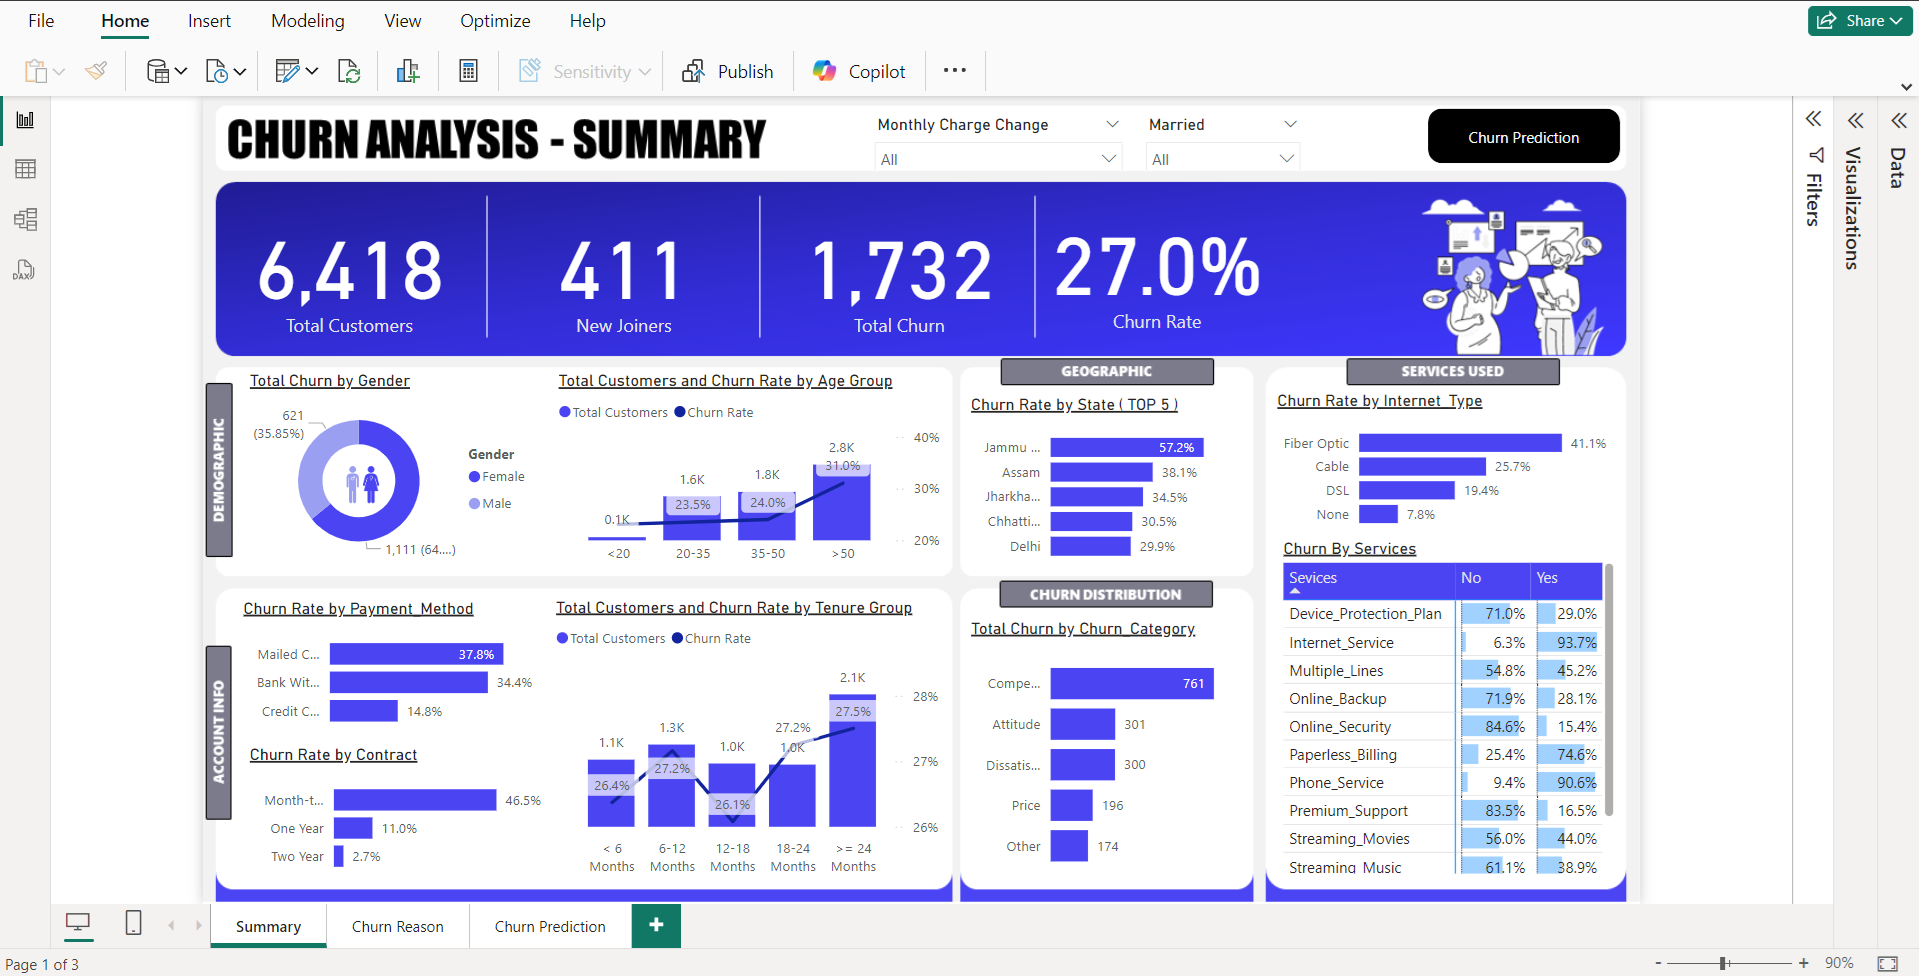

What the dashboard file says about the page in this screenshot:
{"tool":"powerbi","page":{"name":"Summary","canvas":[1280,720],"ordinal":0},"visuals":[{"type":"image","box":[111.9,319,60,51.9],"z":0},{"type":"card","fields":{"Values":["tbl_Measures.Total Customers"]},"box":[10,79,241,153],"z":1000},{"type":"card","fields":{"Values":["tbl_Measures.New Joiners"]},"box":[251,79,249,153],"z":2000},{"type":"card","fields":{"Values":["tbl_Measures.Total Churn"]},"box":[500,79,241,153],"z":3000},{"type":"card","fields":{"Values":["tbl_Measures.Churn Rate"]},"box":[741,79,217,146],"z":4000},{"type":"donutChart","fields":{"Category":["prod_Churn.Gender"],"Y":["tbl_Measures.Total Churn"]},"box":[37.3,245.5,265.5,179.1],"z":5000},{"type":"lineStackedColumnComboChart","fields":{"Category":["mapping_AgeGrp.Age Group"],"Y":["tbl_Measures.Total Customers"],"Y2":["tbl_Measures.Churn Rate"]},"box":[312,245,349.8,181],"z":6000},{"type":"clusteredBarChart","fields":{"Category":["prod_Churn.Payment_Method"],"Y":["tbl_Measures.Churn Rate"]},"box":[31,447,276,126],"z":7000},{"type":"clusteredBarChart","fields":{"Category":["prod_Churn.Contract"],"Y":["tbl_Measures.Churn Rate"]},"box":[37,578,270,125],"z":8000},{"type":"lineStackedColumnComboChart","fields":{"Category":["mapping_TenureGrp.Tenure Group"],"Y":["tbl_Measures.Total Customers"],"Y2":["tbl_Measures.Churn Rate"]},"box":[310,446,351,255.6],"z":9000},{"type":"clusteredBarChart","title":"Churn Rate by State ( TOP 5 )","fields":{"Category":["prod_Churn.State"],"Y":["tbl_Measures.Churn Rate"]},"box":[679,266,250.8,158],"z":10000},{"type":"clusteredBarChart","fields":{"Category":["prod_Churn.Churn_Category"],"Y":["tbl_Measures.Total Churn"]},"box":[679,465,251,237],"z":11000},{"type":"clusteredBarChart","fields":{"Category":["prod_Churn.Internet_Type"],"Y":["tbl_Measures.Churn Rate"]},"box":[952,263,309.8,132],"z":12000},{"type":"pivotTable","title":"Churn By Services","fields":{"Rows":["prod_Services.Sevices"],"Columns":["prod_Services.Status"],"Values":["Sum(prod_Services.Churn Status)"]},"box":[957.8,394.4,304.4,303.3],"z":13000},{"type":"slicer","fields":{"Values":["prod_Services.Monthly Charge Status"]},"box":[587.9,12.1,241.4,53.6],"z":14000},{"type":"slicer","fields":{"Values":["prod_Services.Married"]},"box":[829.2,12.5,158.3,53.3],"z":15000},{"type":"shape","box":[1090.7,11.6,170.9,48.8],"z":15001}]}

Visuals, with their boxes on the page's 1280x720 design canvas (x1, y1, x2, y2). These are canvas units, not pixel positions in the 1919x976 screenshot, which may show the page scaled, cropped or inside an application window:
image: bbox=[112, 319, 172, 371]
card - tbl_Measures.Total Customers: bbox=[10, 79, 251, 232]
card - tbl_Measures.New Joiners: bbox=[251, 79, 500, 232]
card - tbl_Measures.Total Churn: bbox=[500, 79, 741, 232]
card - tbl_Measures.Churn Rate: bbox=[741, 79, 958, 225]
donutChart - prod_Churn.Gender x tbl_Measures.Total Churn: bbox=[37, 246, 303, 425]
lineStackedColumnComboChart - mapping_AgeGrp.Age Group x tbl_Measures.Total Customers: bbox=[312, 245, 662, 426]
clusteredBarChart - prod_Churn.Payment_Method x tbl_Measures.Churn Rate: bbox=[31, 447, 307, 573]
clusteredBarChart - prod_Churn.Contract x tbl_Measures.Churn Rate: bbox=[37, 578, 307, 703]
lineStackedColumnComboChart - mapping_TenureGrp.Tenure Group x tbl_Measures.Total Customers: bbox=[310, 446, 661, 702]
"Churn Rate by State ( TOP 5 )" clusteredBarChart: bbox=[679, 266, 930, 424]
clusteredBarChart - prod_Churn.Churn_Category x tbl_Measures.Total Churn: bbox=[679, 465, 930, 702]
clusteredBarChart - prod_Churn.Internet_Type x tbl_Measures.Churn Rate: bbox=[952, 263, 1262, 395]
"Churn By Services" pivotTable: bbox=[958, 394, 1262, 698]
slicer - prod_Services.Monthly Charge Status: bbox=[588, 12, 829, 66]
slicer - prod_Services.Married: bbox=[829, 12, 988, 66]
shape: bbox=[1091, 12, 1262, 60]
